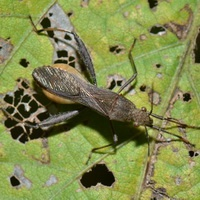insect: (0, 28, 199, 199), (32, 38, 199, 147)
